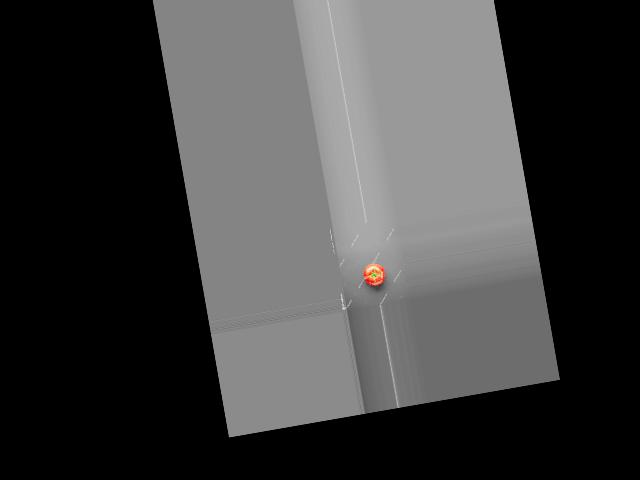tomato: (361, 261, 386, 287)
